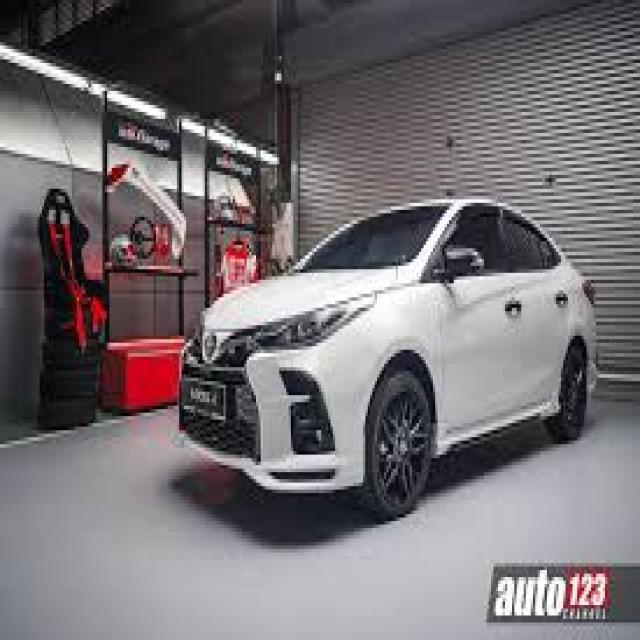ToyotaVios: (176, 195, 599, 522)
